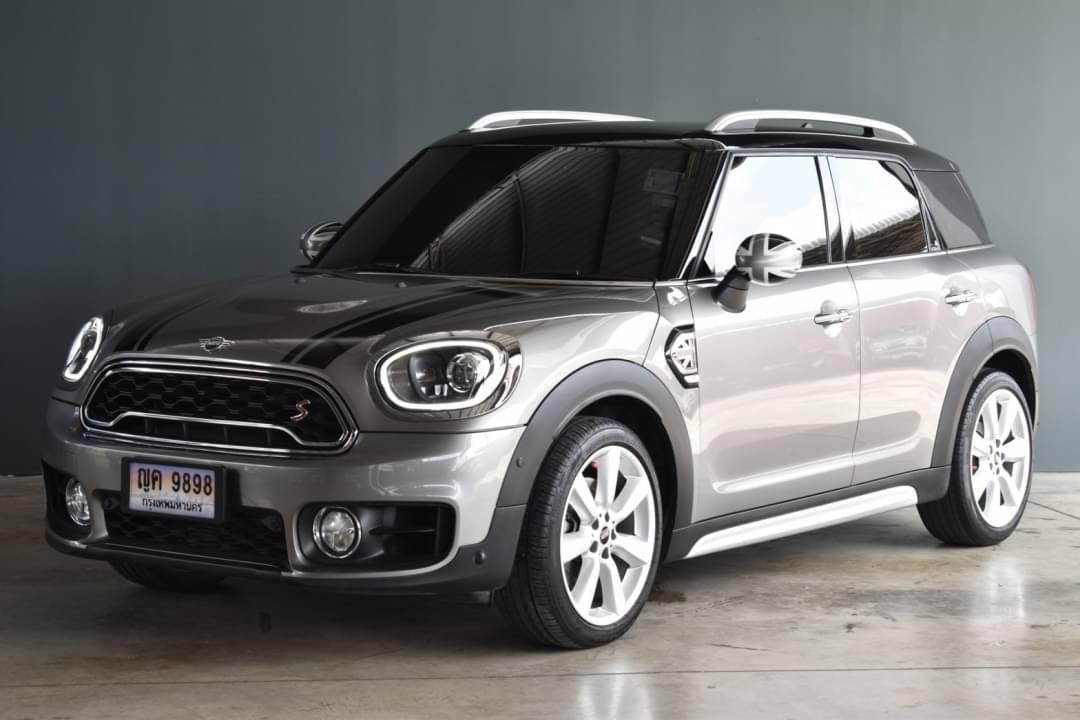license-plate: (123, 457, 226, 527)
